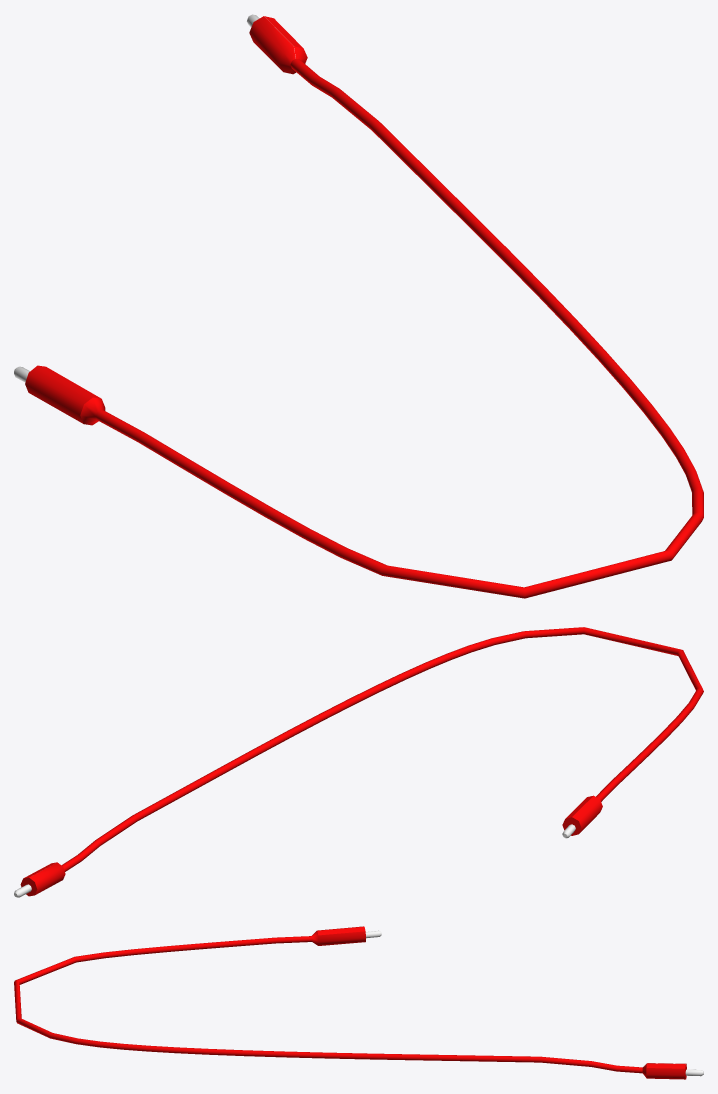
The model's file is ElectroWires03_1.FBX.
3 views of the same model, one above another, from view 1: azimuth 30°, elevation 25°; view 2: azimuth 150°, elevation 25°; view 3: azimuth 270°, elevation 25° (orthographic). The views are drawn at different scales.
Visible parts, largest first — view 1: Wires03; view 2: Wires03; view 3: Wires03.
Part boxes in pixels (box(x1,y1,x2,y2)): Wires03: box(14, 14, 703, 598); Wires03: box(14, 627, 703, 897); Wires03: box(14, 926, 703, 1079).
Bounding box in the file's own units: 56.2 × 3.3 × 114.
